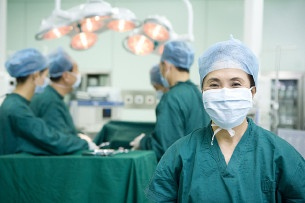Mask: (200, 74, 252, 126)
